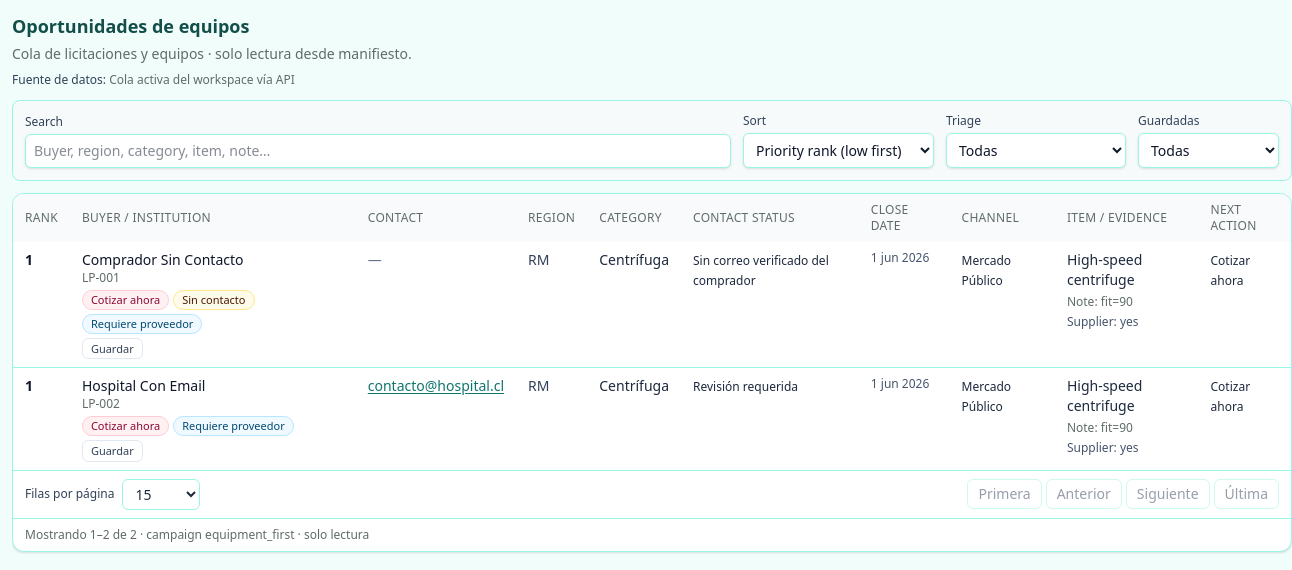
Test: EquipmentOpportunitiesTable › filters rows when Sin contacto triage is selected
Select "Sin contacto" in the dropdown named "Filter equipment opportunities by triage". click: (1036, 150)
box: [946,133,1126,168]
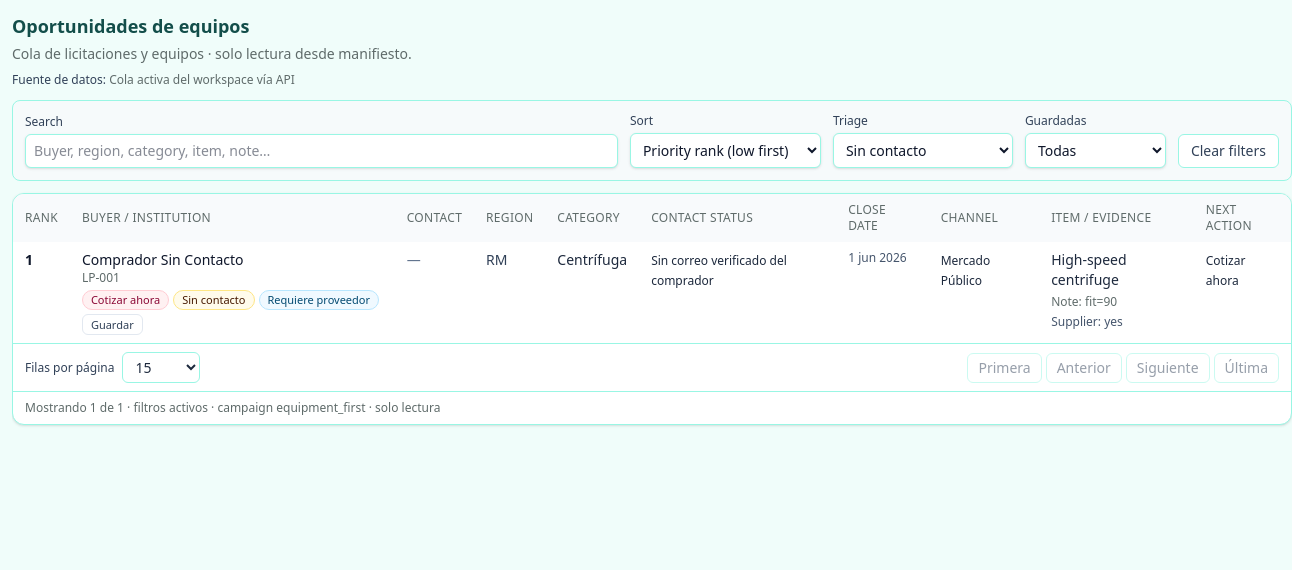
Expected: the text "Comprador Sin Contacto" is shown, [82,250,244,269]
Now the button "Hospital Con Email" is gone
